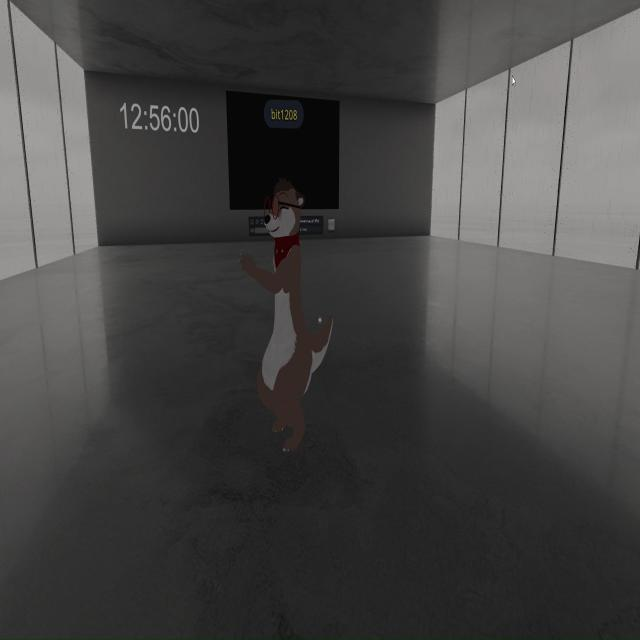human: (240, 181, 336, 464)
